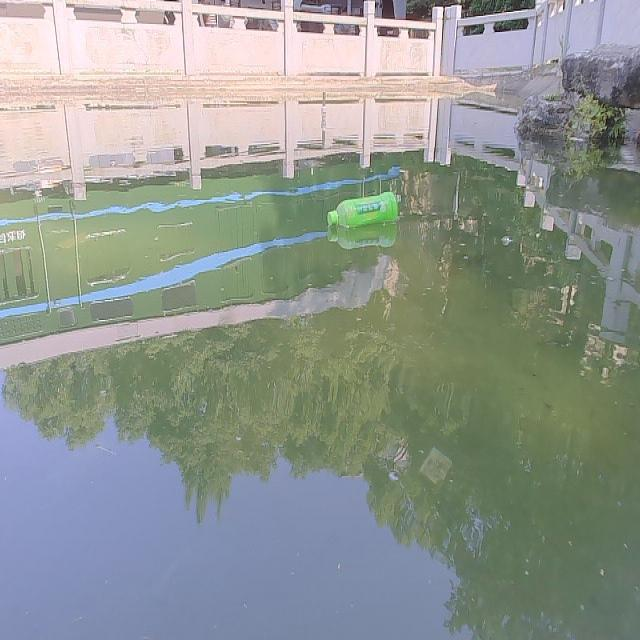Bottle: (321, 189, 400, 231)
